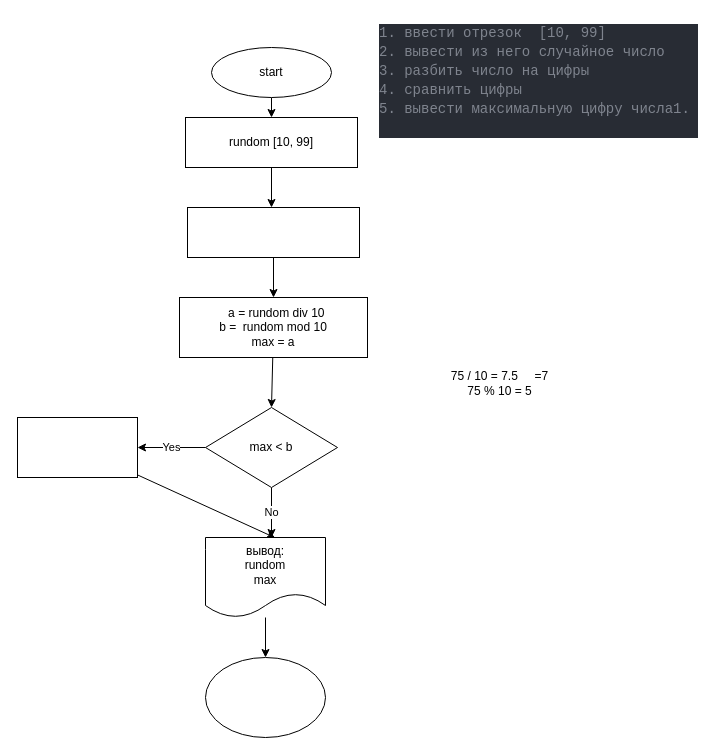
Image size: 725x755. Some labels were removed from this diagram. The shapes that lost their labels are listed below. From the top down, each one's box as (x1, y1, x2, y2) in pixels, then its label:
(186, 206, 360, 258): rundom
(16, 416, 138, 478): max = b
(204, 656, 326, 738): end
